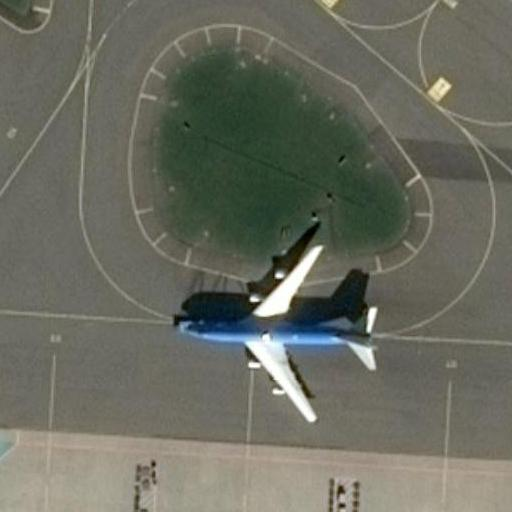Aircraft: (171, 231, 384, 424)
